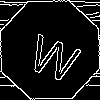W: (25, 25, 86, 84)
